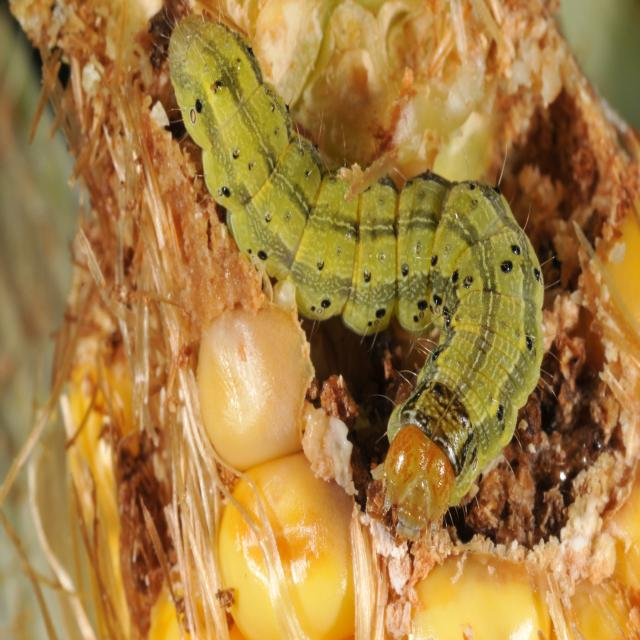Corn-earworm: (169, 1, 550, 536)
